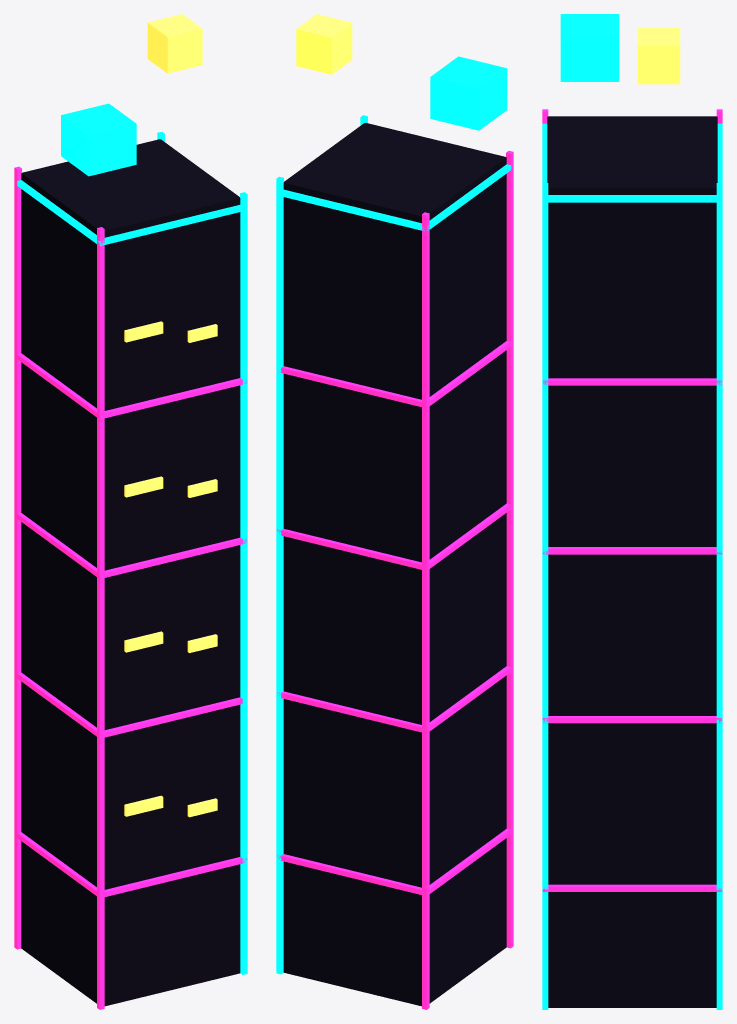
Rendered from prop_wireframe_tower.glb.
3 views of the same model, side by side, from view 1: azimuth 30°, elevation 25°; view 2: azimuth 150°, elevation 25°; view 3: azimuth 270°, elevation 25° (orthographic). The views are drawn at different scales.
Visible parts, largest first — view 1: tower_core, edge_v_2, edge_v_3, edge_v_0, holo_cube_1, holo_cube_2, ring_f_9.5, ring_f_2.5, ring_f_13, ring_f_16.8, ring_f_6, ring_l_6 (+4 smaller); view 2: tower_core, edge_v_0, edge_v_1, edge_v_2, holo_cube_1, holo_cube_2, ring_b_2.5, ring_b_13, ring_b_16.8, ring_b_9.5, ring_b_6, ring_l_2.5 (+4 smaller); view 3: tower_core, edge_v_1, edge_v_3, holo_cube_1, holo_cube_2, ring_r_16.8, ring_r_13, ring_r_6, ring_r_2.5, ring_r_9.5.
Boxes of the visible parts, x1,y1,x2,y2 form: tower_core: (21,139,240,1006); edge_v_2: (97,227,104,1009); edge_v_3: (240,192,247,974); edge_v_0: (14,166,21,949); holo_cube_1: (61,103,136,176); holo_cube_2: (147,14,202,73); ring_f_9.5: (100,537,246,578); ring_f_2.5: (100,857,247,898); ring_f_13: (100,378,247,419); ring_f_16.8: (100,204,242,245); ring_f_6: (100,697,242,738); ring_l_6: (14,672,99,736); tower_core: (283,123,506,1006); edge_v_0: (422,212,429,1009); edge_v_1: (276,176,283,974); edge_v_2: (506,150,513,948); holo_cube_1: (430,56,507,130); holo_cube_2: (296,14,352,74); ring_b_2.5: (277,854,426,896); ring_b_13: (281,366,424,407); ring_b_16.8: (278,189,424,230); ring_b_9.5: (276,528,422,569); ring_b_6: (277,691,421,732); ring_l_2.5: (427,828,513,895); tower_core: (547,116,717,1007); edge_v_1: (716,183,722,1009); edge_v_3: (542,183,548,1009); holo_cube_1: (560,14,619,81); holo_cube_2: (637,27,680,84); ring_r_16.8: (542,195,721,202); ring_r_13: (543,378,722,385); ring_r_6: (542,716,721,723); ring_r_2.5: (542,884,722,891); ring_r_9.5: (542,547,722,554).
Bounding box in the file's own units: 3.45 × 20 × 3.39.
